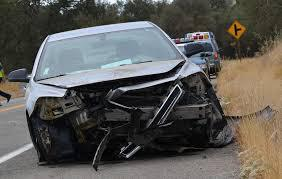bonnet-dent: (46, 64, 179, 84)
front-bumper-dent: (53, 92, 189, 146)
